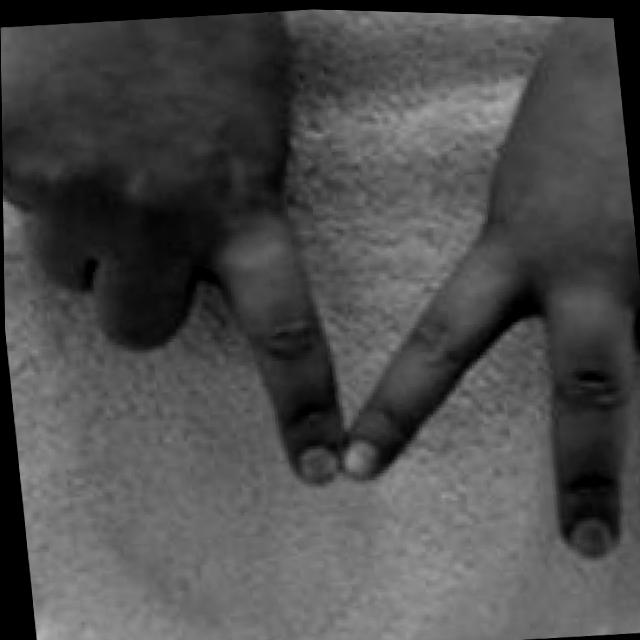N: (0, 0, 640, 608)
